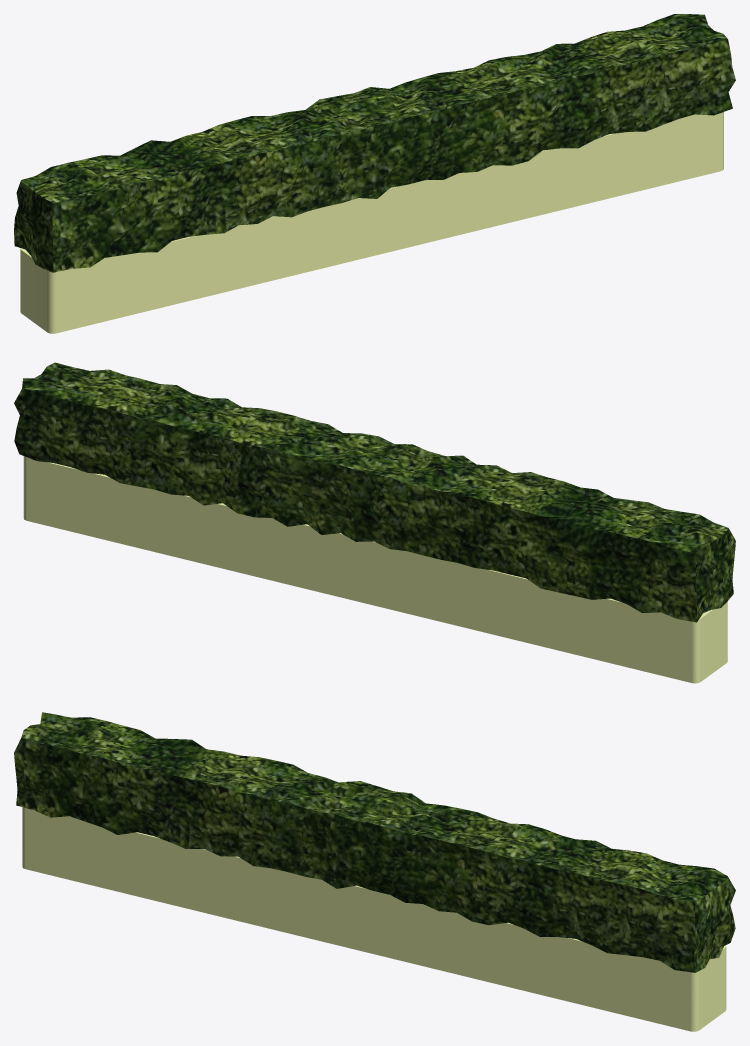
File: buxo-sebe.glb
3 views of the same model, one above another, from view 1: azimuth 30°, elevation 25°; view 2: azimuth 150°, elevation 25°; view 3: azimuth 330°, elevation 25° (orthographic).
Visible parts, largest first — view 1: buxo-sebe-test; view 2: buxo-sebe-test; view 3: buxo-sebe-test.
Part boxes in pixels (x1,y1,x2,y2): buxo-sebe-test: (14,14,735,333); buxo-sebe-test: (14,362,735,683); buxo-sebe-test: (14,712,735,1031).
Bounding box in the file's own units: 2.2 × 0.42 × 0.2412.
2 materials, 1 textured.
